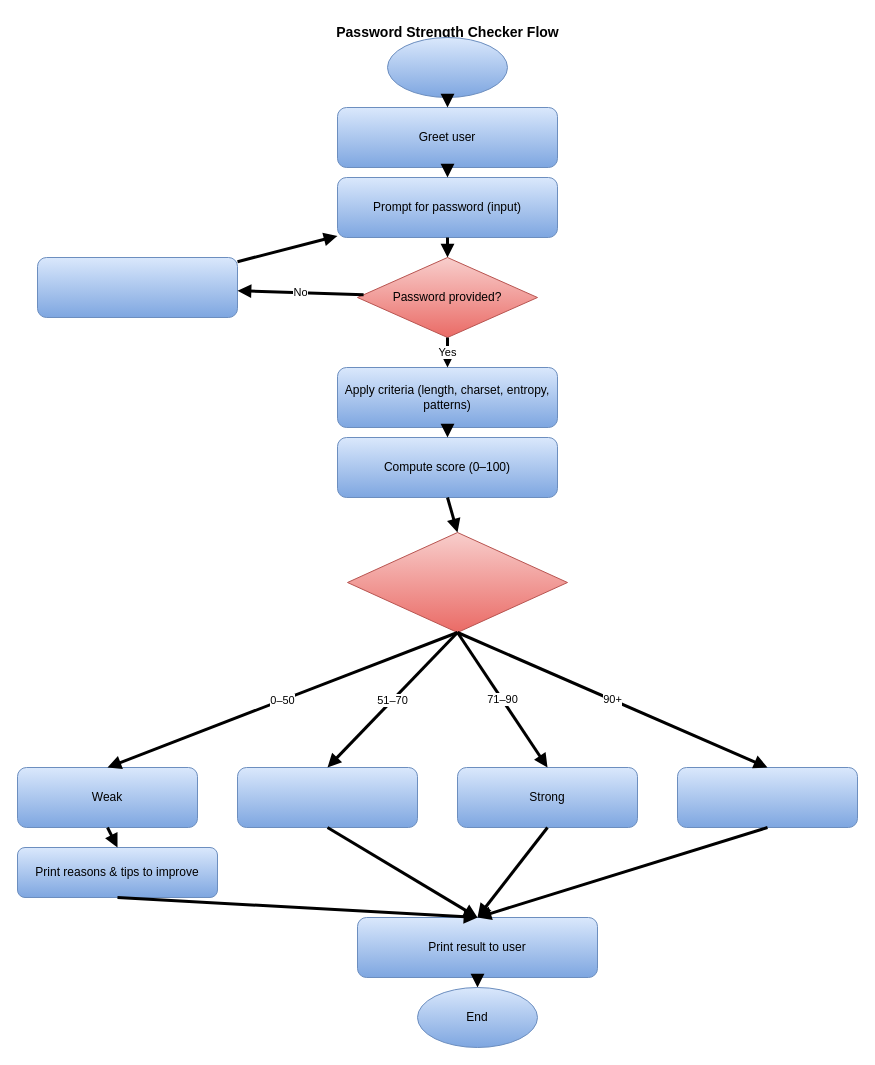
Image size: 875x1065. Some labels were removed from this diagram. The centre of each missing label's shape, as x and y in pixels:
"Can be better" goes at point (327, 797).
"Re-prompt / Handle invalid input" goes at point (137, 287).
"Score range?" goes at point (457, 582).
"Start" goes at point (447, 67).
"Very strong" goes at point (767, 797).
